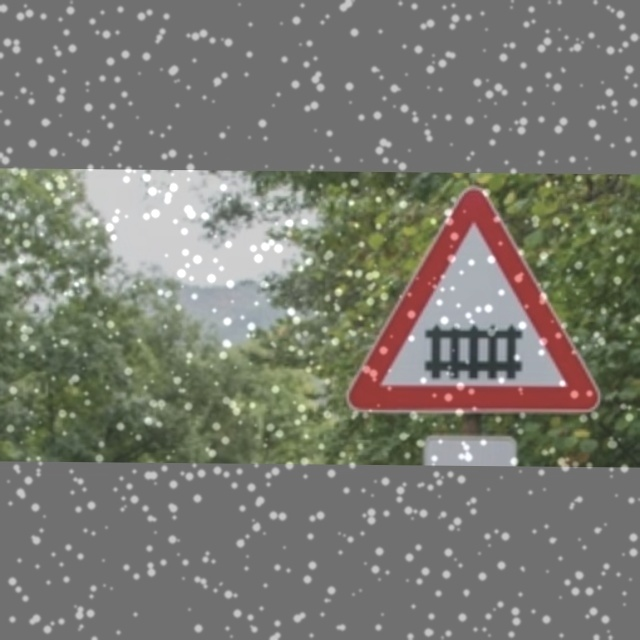Guarded_Level_Crossing: (353, 187, 605, 417)
